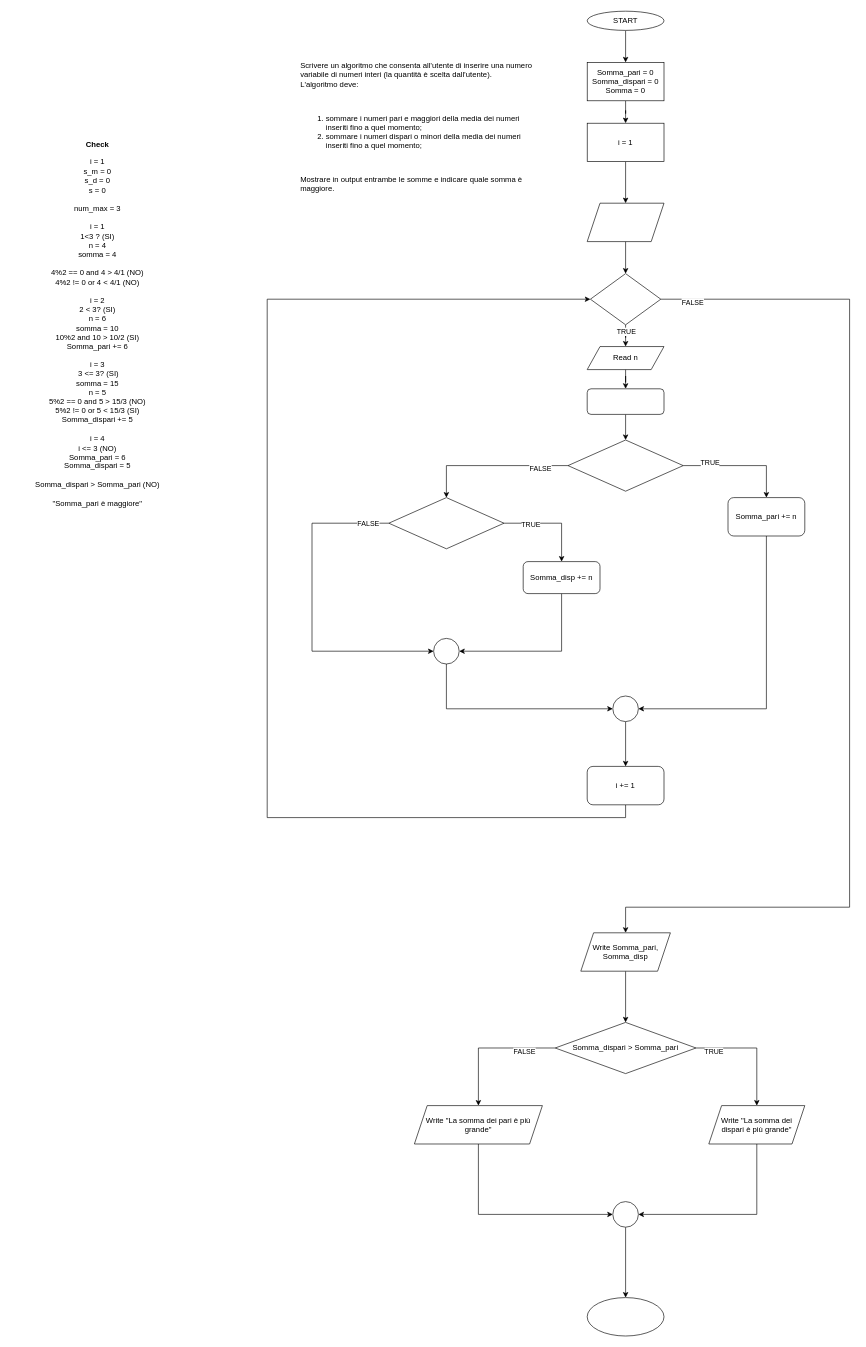
This 866x1347 diagram has some shape labels left out. Each missing label, with the centre of its shape:
END: the point at 625,1316
i < = num_max: the point at 625,299
n%2 != 0 OR n < Somma/i: the point at 446,523
n%2 == 0 AND n > Somma/i: the point at 625,465
Read num_max: the point at 625,222
Somma += n: the point at 625,401
